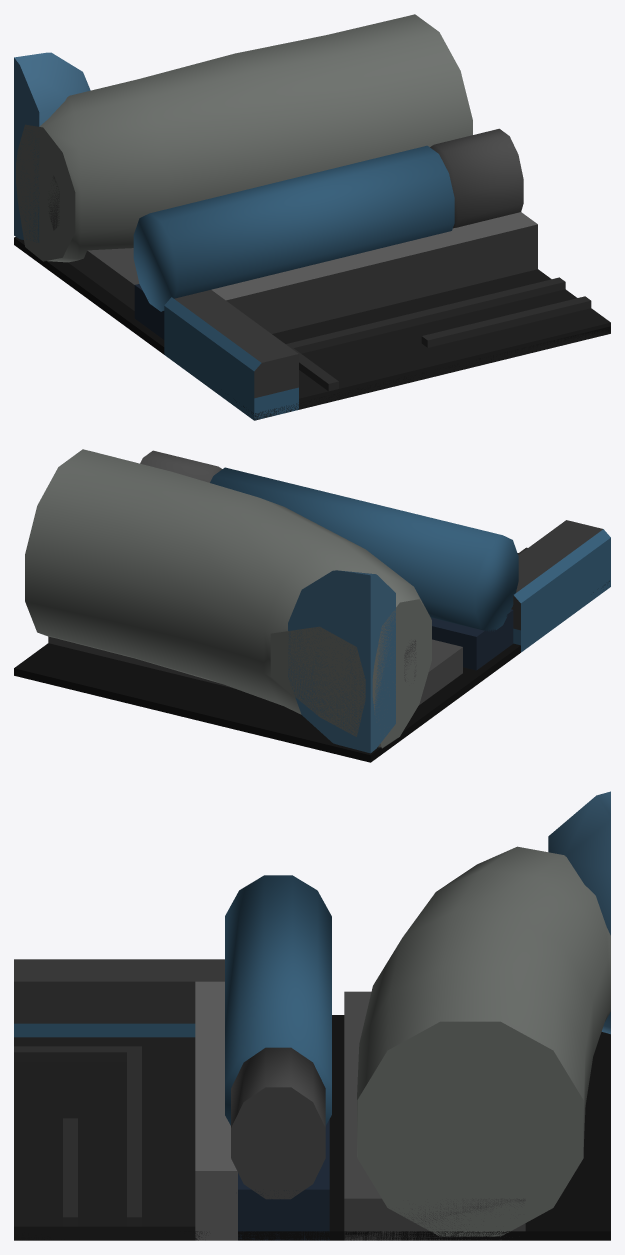
File: newsho-83.glb
3 views of the same model, one above another, from view 1: azimuth 30°, elevation 25°; view 2: azimuth 150°, elevation 25°; view 3: azimuth 270°, elevation 25° (orthographic). The views are drawn at different scales.
Parts seen in each view (by area): view 1: newsho-83; view 2: newsho-83; view 3: newsho-83.
Boxes of the visible parts, left/top/right/bottom form: newsho-83: left=14, top=14, right=610, bottom=420; newsho-83: left=14, top=449, right=610, bottom=762; newsho-83: left=14, top=791, right=610, bottom=1240.
Size of the model in its own units: 2 by 1 by 2.33.
